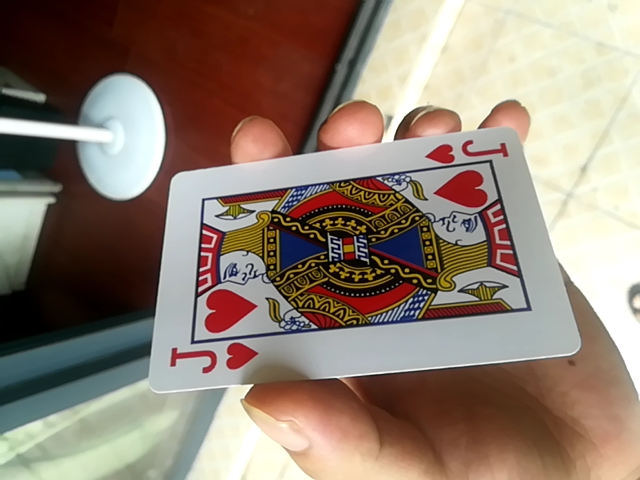hx j: (148, 124, 573, 400)
